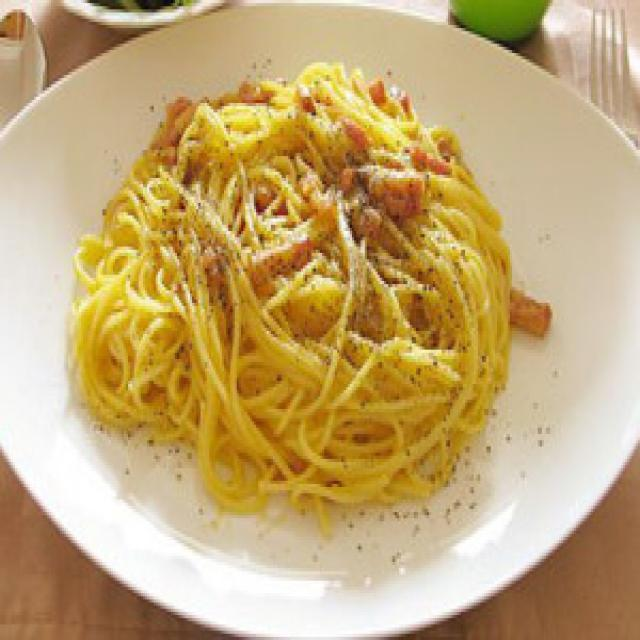Pasta with carbonara sauce: (56, 47, 568, 556)
